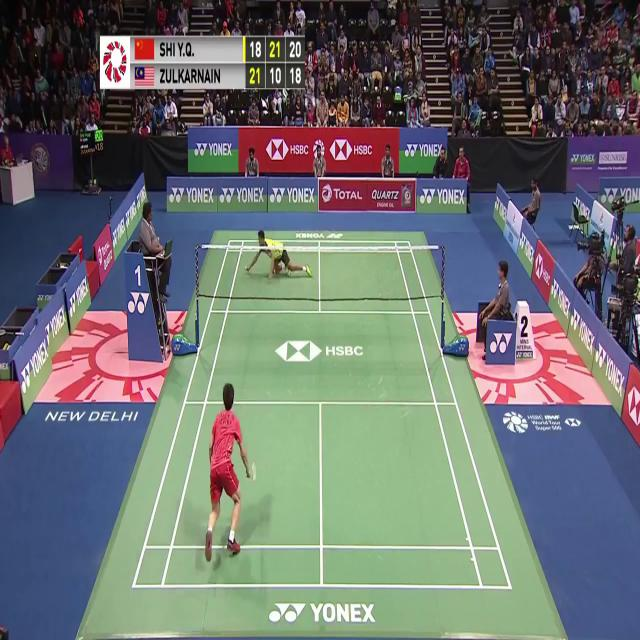Shuttlecock: (237, 191, 243, 202)
